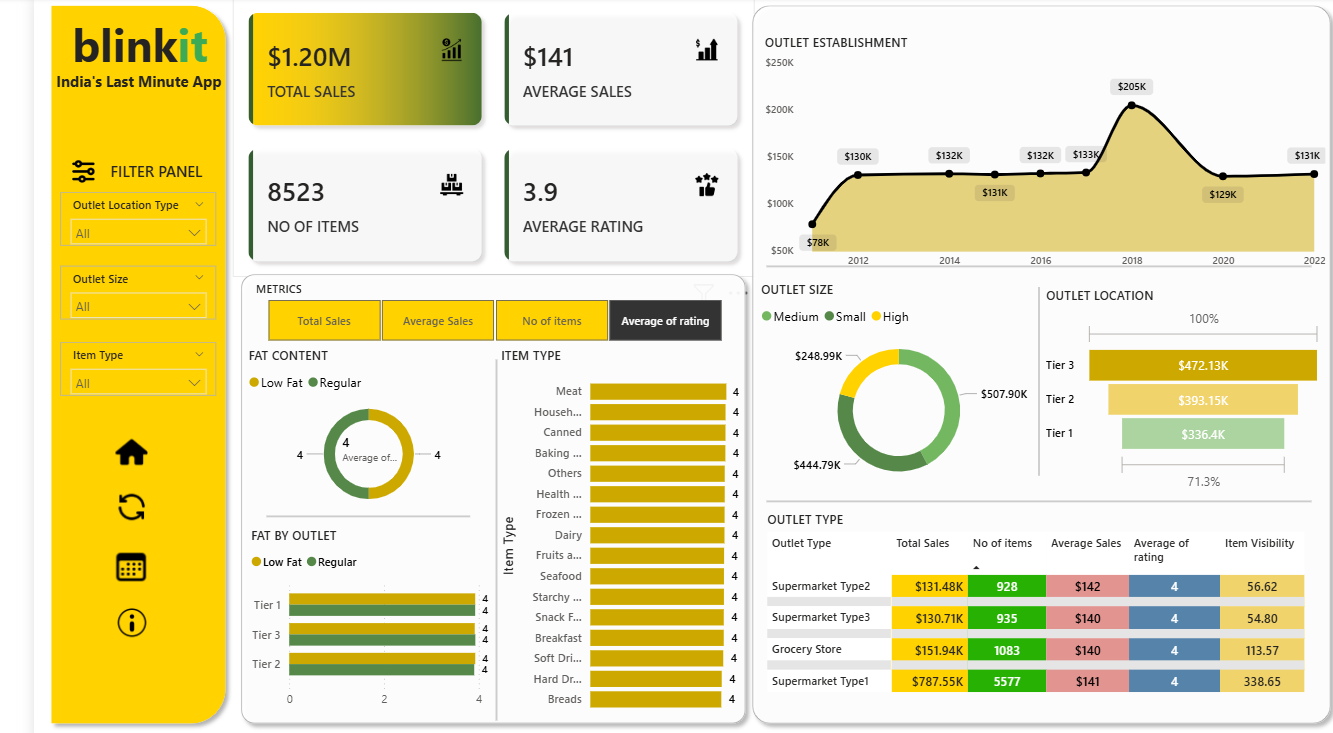

What the dashboard file says about the page in this screenshot:
{"tool":"powerbi","page":{"name":"Page 1","canvas":[1400,800],"ordinal":0},"visuals":[{"type":"shape","box":[9.4,0,205.1,788.2],"z":0},{"type":"textbox","box":[22.5,13.5,181.6,94.6],"z":1000},{"type":"textbox","box":[0,73.5,225.1,34.5],"z":2000},{"type":"cardVisual","fields":{"Data":["BlinkIT Grocery Data.Total Sales","BlinkIT Grocery Data.Average Sales","BlinkIT Grocery Data.No of items","BlinkIT Grocery Data.Average of rating"]},"box":[213.1,0,559,300.3],"z":3000},{"type":"shape","box":[213.1,288.2,559,500],"z":4000},{"type":"donutChart","title":"FAT CONTENT","fields":{"Y":["BlinkIT Grocery Data.Average of rating"],"Category":["BlinkIT Grocery Data.Item Fat Content"]},"box":[225.2,375.3,268.1,182.3],"z":5000},{"type":"slicer","fields":{"Values":["Metrics.Metrics"]},"box":[225.2,300.3,536.2,75.1],"z":6000},{"type":"cardVisual","fields":{"Data":["BlinkIT Grocery Data.Average of rating"]},"box":[313.7,451.7,109.9,57.6],"z":7000},{"type":"clusteredBarChart","title":"FAT BY OUTLET","fields":{"Y":["BlinkIT Grocery Data.Average of rating"],"Category":["BlinkIT Grocery Data.Outlet Location Type"],"Series":["BlinkIT Grocery Data.Item Fat Content"]},"box":[227.9,568.4,268.1,202.4],"z":8000},{"type":"shape","box":[249.3,534.9,218.5,44.2],"z":9000},{"type":"shape","box":[474.5,388.7,42.9,387.4],"z":10000},{"type":"barChart","title":"ITEM TYPE","fields":{"Y":["BlinkIT Grocery Data.Average of rating"],"Category":["BlinkIT Grocery Data.Item Type"]},"box":[496,375.3,265.4,400.8],"z":11000},{"type":"shape","box":[761.4,13.4,638.1,774.8],"z":12000},{"type":"lineChart","title":"OUTLET ESTABLISHMENT","fields":{"Category":["BlinkIT Grocery Data.Outlet Establishment Year"],"Y":["BlinkIT Grocery Data.Total Sales"]},"box":[778.8,59,611.3,241.3],"z":13000},{"type":"shape","box":[785.5,266.8,584.5,44.2],"z":14000},{"type":"donutChart","title":"OUTLET SIZE","fields":{"Y":["BlinkIT Grocery Data.Total Sales"],"Category":["BlinkIT Grocery Data.Outlet Size"]},"box":[774.8,304.3,305.6,230.6],"z":15000},{"type":"shape","box":[1056.3,311,42.9,202.4],"z":16000},{"type":"funnel","title":"OUTLET LOCATION","fields":{"Category":["BlinkIT Grocery Data.Outlet Location Type"],"Y":["Sum(BlinkIT Grocery Data.Sales)"]},"box":[1080.4,311,305.6,223.9],"z":17000},{"type":"shape","box":[785.5,518.8,584.5,44.2],"z":18000},{"type":"pivotTable","title":"OUTLET TYPE","fields":{"Rows":["BlinkIT Grocery Data.Outlet Type"],"Values":["BlinkIT Grocery Data.Total Sales","BlinkIT Grocery Data.No of items","BlinkIT Grocery Data.Average Sales","BlinkIT Grocery Data.Average of rating","Sum(BlinkIT Grocery Data.Item Visibility)"]},"box":[781.5,550.9,597.9,219.8],"z":19000},{"type":"slicer","fields":{"Values":["BlinkIT Grocery Data.Outlet Location Type"]},"box":[28.2,209.1,167.6,57.6],"z":20000},{"type":"slicer","fields":{"Values":["BlinkIT Grocery Data.Outlet Size"]},"box":[28.2,288.2,167.6,57.6],"z":21000},{"type":"slicer","fields":{"Values":["BlinkIT Grocery Data.Item Type"]},"box":[28.2,370,167.6,57.6],"z":22000},{"type":"textbox","box":[67,170.2,128.7,38.9],"z":23000},{"type":"image","box":[28.2,170.2,49.6,33.5],"z":24000},{"type":"actionButton","box":[77.7,466.5,53.6,42.9],"z":25000},{"type":"actionButton","box":[77.7,525.5,53.6,42.9],"z":26000},{"type":"actionButton","box":[56.3,650.1,97.9,41.6],"z":27000},{"type":"actionButton","box":[53.6,583.1,100.5,56.3],"z":28000}]}

Visuals, with their boxes on the page's 1400x800 design canvas (x1, y1, x2, y2). These are canvas units, not pixel positions in the 1333x733 screenshot, which may show the page scaled, cropped or inside an application window:
shape: bbox=[9, 0, 214, 788]
textbox: bbox=[22, 14, 204, 108]
textbox: bbox=[0, 74, 225, 108]
cardVisual - BlinkIT Grocery Data.Total Sales x BlinkIT Grocery Data.Average Sales: bbox=[213, 0, 772, 300]
shape: bbox=[213, 288, 772, 788]
"FAT CONTENT" donutChart: bbox=[225, 375, 493, 558]
slicer - Metrics.Metrics: bbox=[225, 300, 761, 375]
cardVisual - BlinkIT Grocery Data.Average of rating: bbox=[314, 452, 424, 509]
"FAT BY OUTLET" clusteredBarChart: bbox=[228, 568, 496, 771]
shape: bbox=[249, 535, 468, 579]
shape: bbox=[474, 389, 517, 776]
"ITEM TYPE" barChart: bbox=[496, 375, 761, 776]
shape: bbox=[761, 13, 1400, 788]
"OUTLET ESTABLISHMENT" lineChart: bbox=[779, 59, 1390, 300]
shape: bbox=[786, 267, 1370, 311]
"OUTLET SIZE" donutChart: bbox=[775, 304, 1080, 535]
shape: bbox=[1056, 311, 1099, 513]
"OUTLET LOCATION" funnel: bbox=[1080, 311, 1386, 535]
shape: bbox=[786, 519, 1370, 563]
"OUTLET TYPE" pivotTable: bbox=[782, 551, 1379, 771]
slicer - BlinkIT Grocery Data.Outlet Location Type: bbox=[28, 209, 196, 267]
slicer - BlinkIT Grocery Data.Outlet Size: bbox=[28, 288, 196, 346]
slicer - BlinkIT Grocery Data.Item Type: bbox=[28, 370, 196, 428]
textbox: bbox=[67, 170, 196, 209]
image: bbox=[28, 170, 78, 204]
actionButton: bbox=[78, 466, 131, 509]
actionButton: bbox=[78, 526, 131, 568]
actionButton: bbox=[56, 650, 154, 692]
actionButton: bbox=[54, 583, 154, 639]
